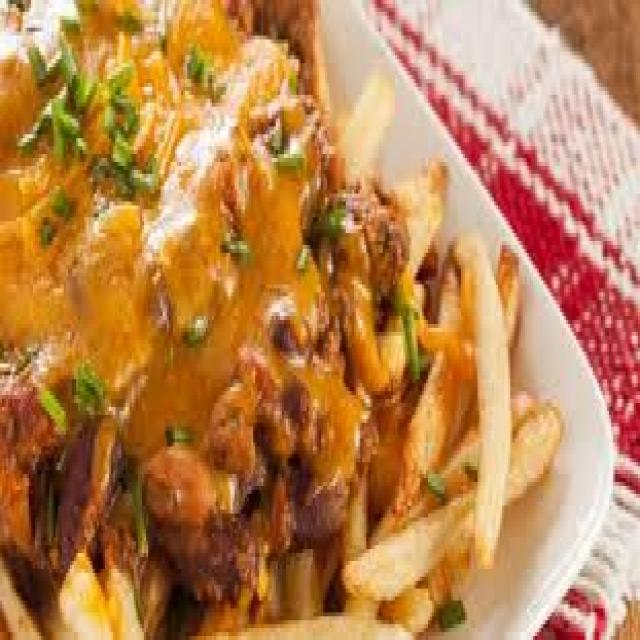organic waste: (0, 0, 560, 636), (340, 245, 518, 604), (338, 403, 558, 597), (379, 383, 533, 628), (31, 40, 156, 202), (453, 229, 506, 565), (150, 430, 251, 592), (24, 415, 128, 561), (311, 162, 414, 296), (263, 435, 348, 545), (329, 63, 395, 198), (200, 601, 418, 636), (338, 434, 372, 584), (403, 158, 449, 265), (253, 106, 305, 186), (159, 292, 220, 348), (267, 280, 317, 344), (37, 379, 95, 423), (214, 229, 261, 273), (183, 47, 229, 87), (282, 380, 311, 442)
